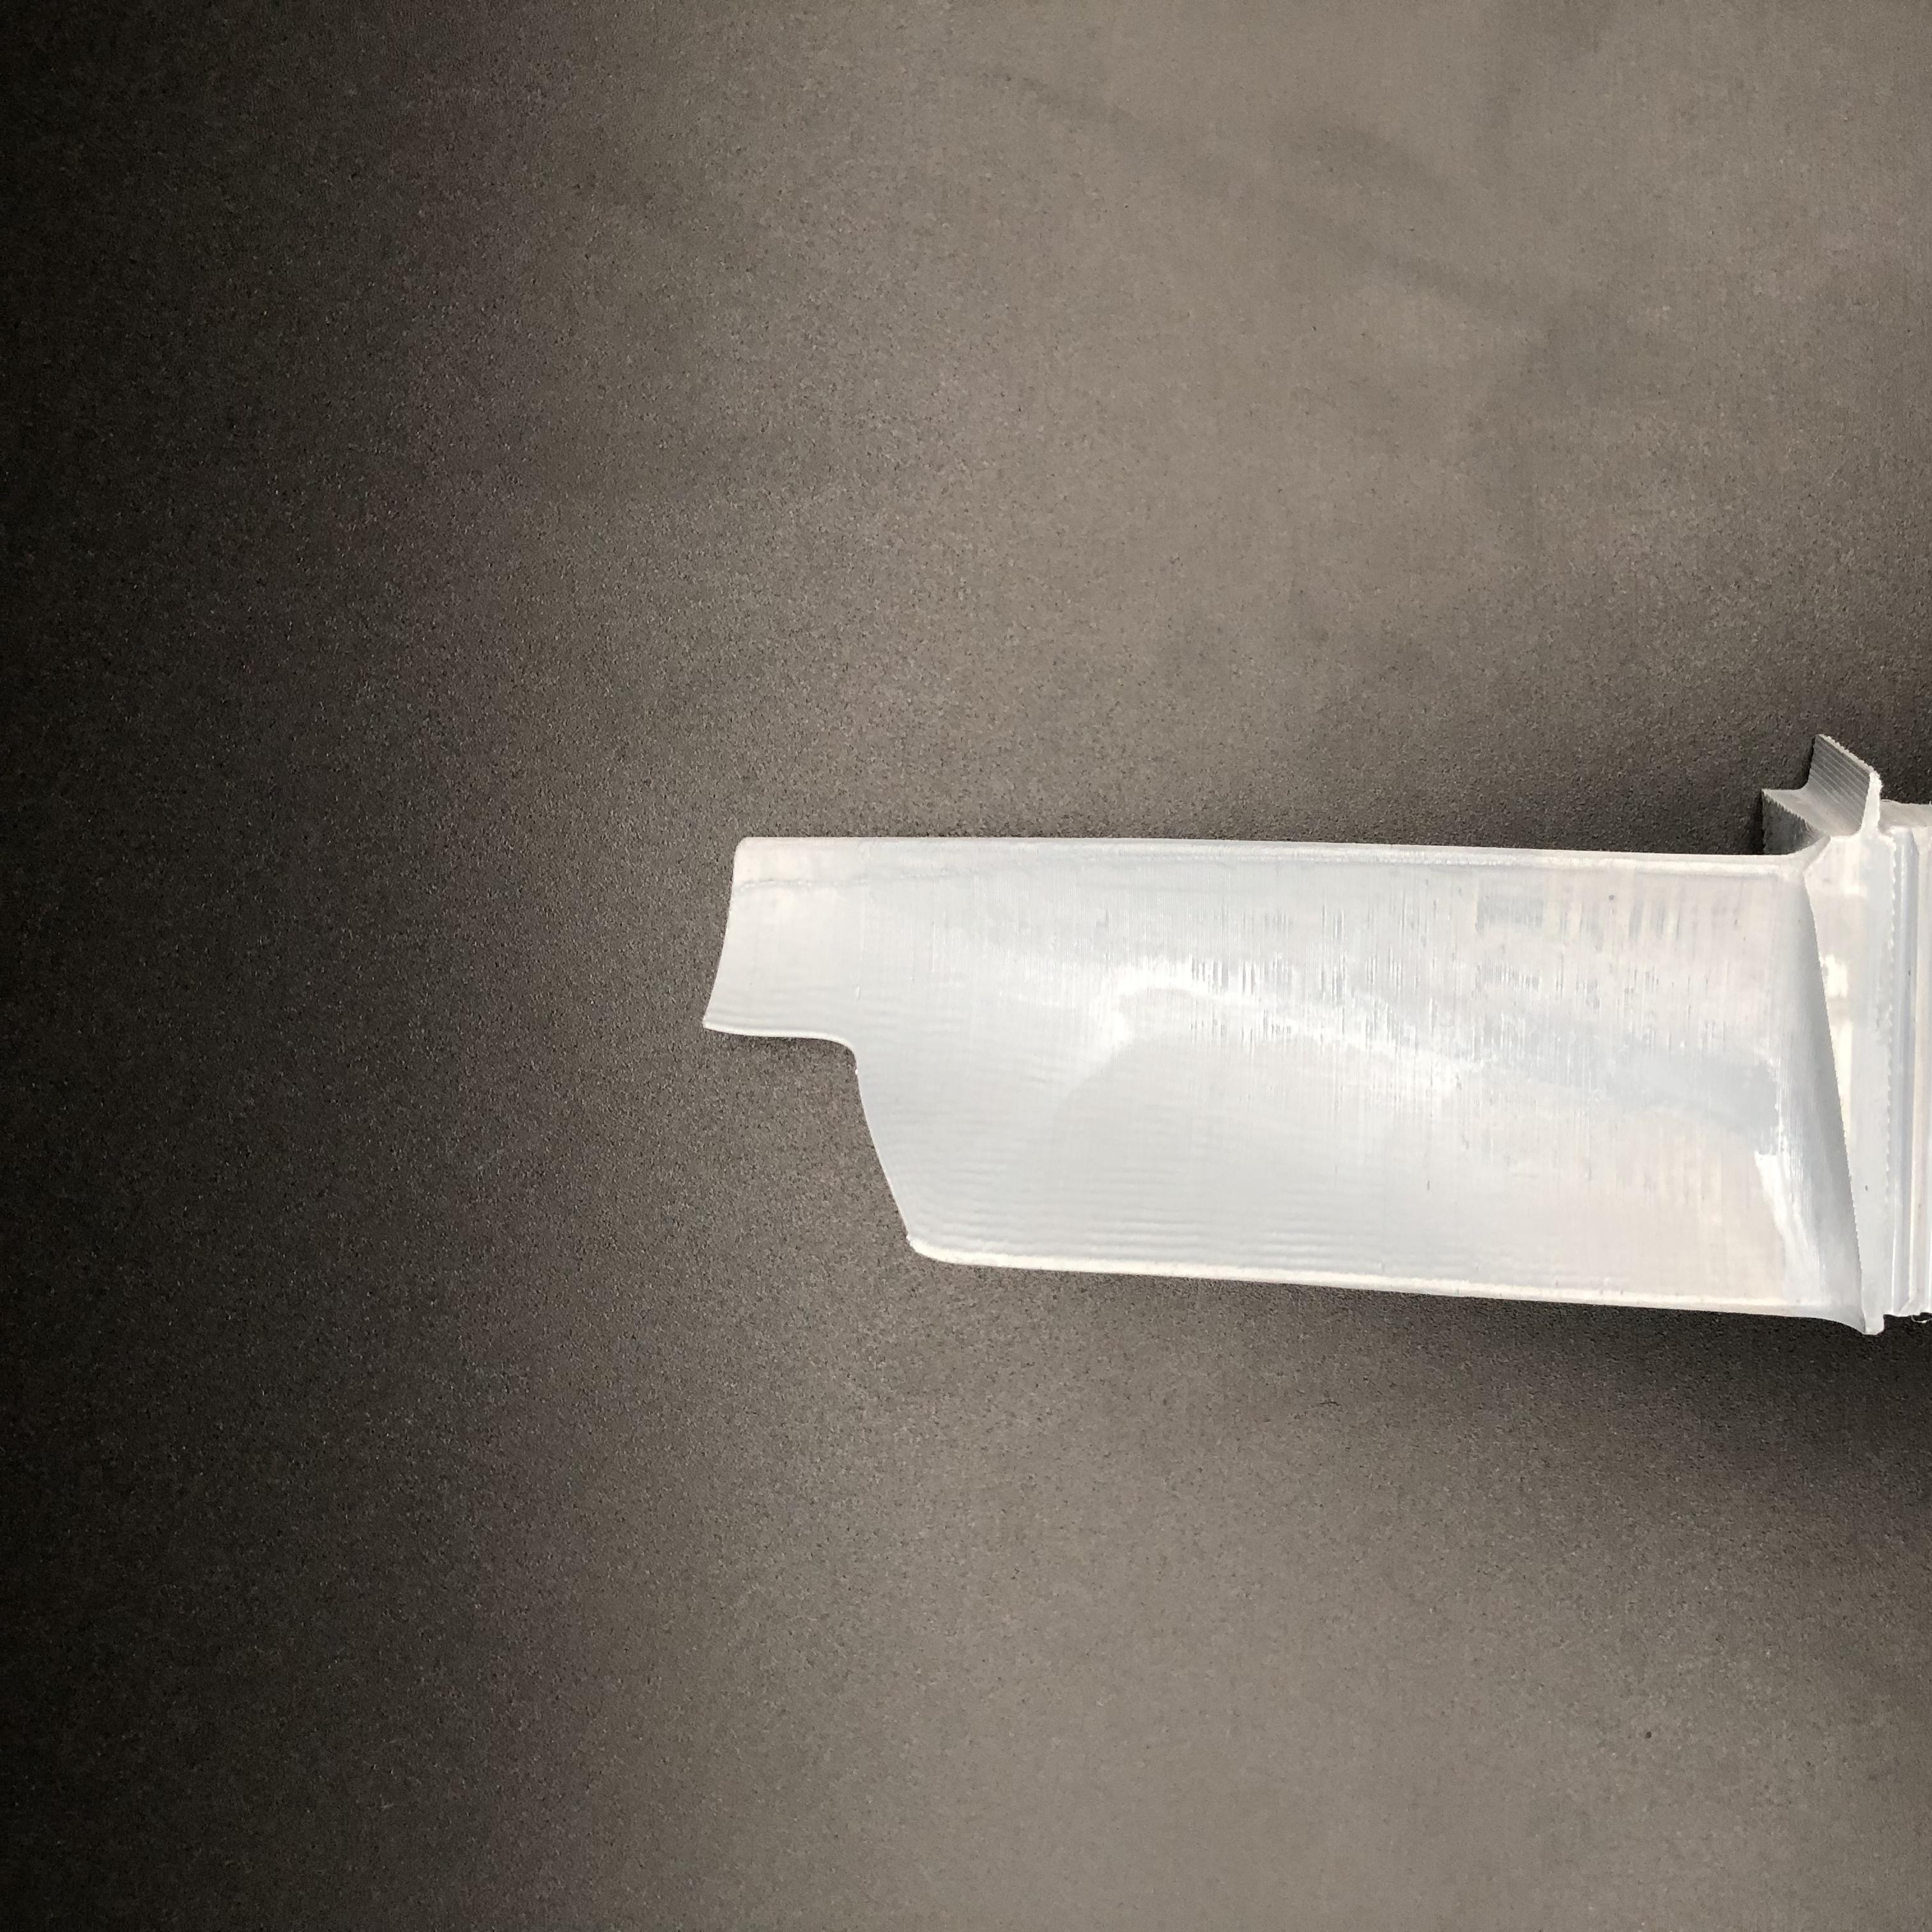fracture: (706, 993, 964, 1270)
